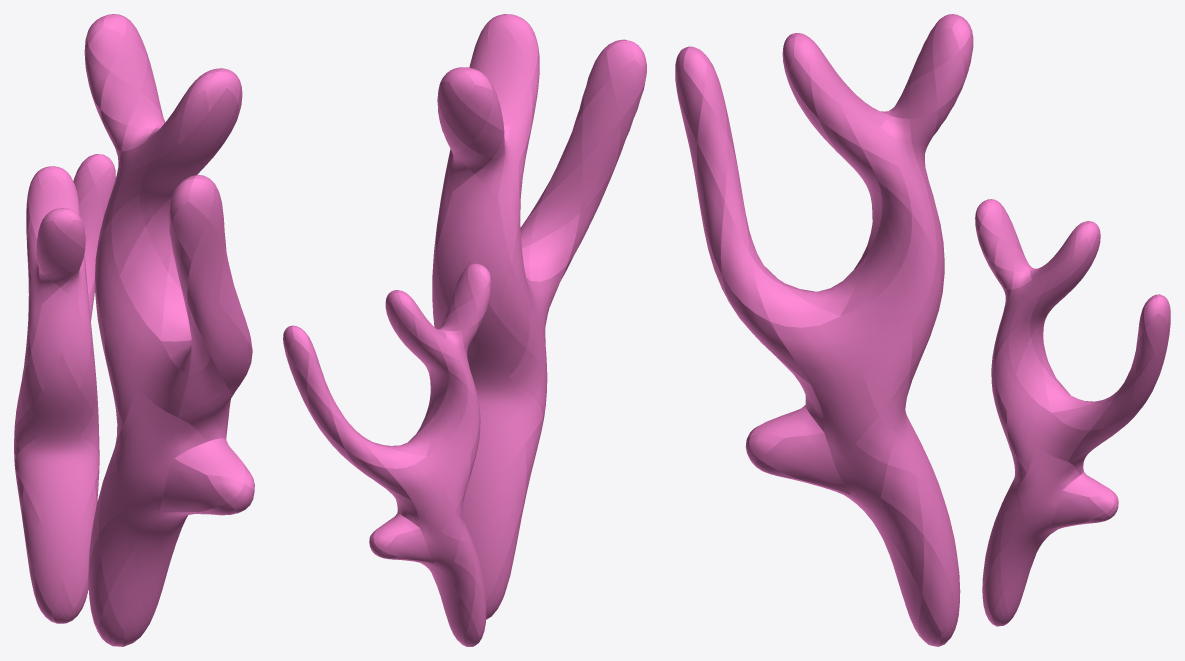
Rendered from plant 1.fbx.
3 renders of one model, left to right at view 1: azimuth 30°, elevation 25°; view 2: azimuth 150°, elevation 25°; view 3: azimuth 270°, elevation 25°, orthographic. The views are drawn at different scales.
Visible parts, largest first — view 1: plant 1; view 2: plant 1; view 3: plant 1.
Boxes of the visible parts, x1,y1,x2,y2 form: plant 1: (14,14,254,646); plant 1: (283,14,646,646); plant 1: (675,14,1170,646).
Bounding box in the file's own units: 12.16 × 42.12 × 30.22.
